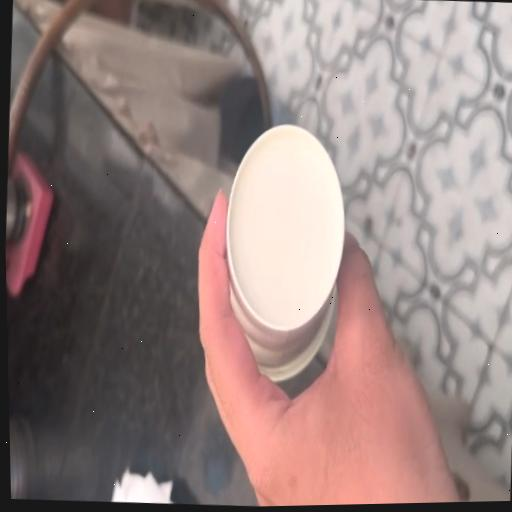Ly_giay: (226, 126, 344, 380)
